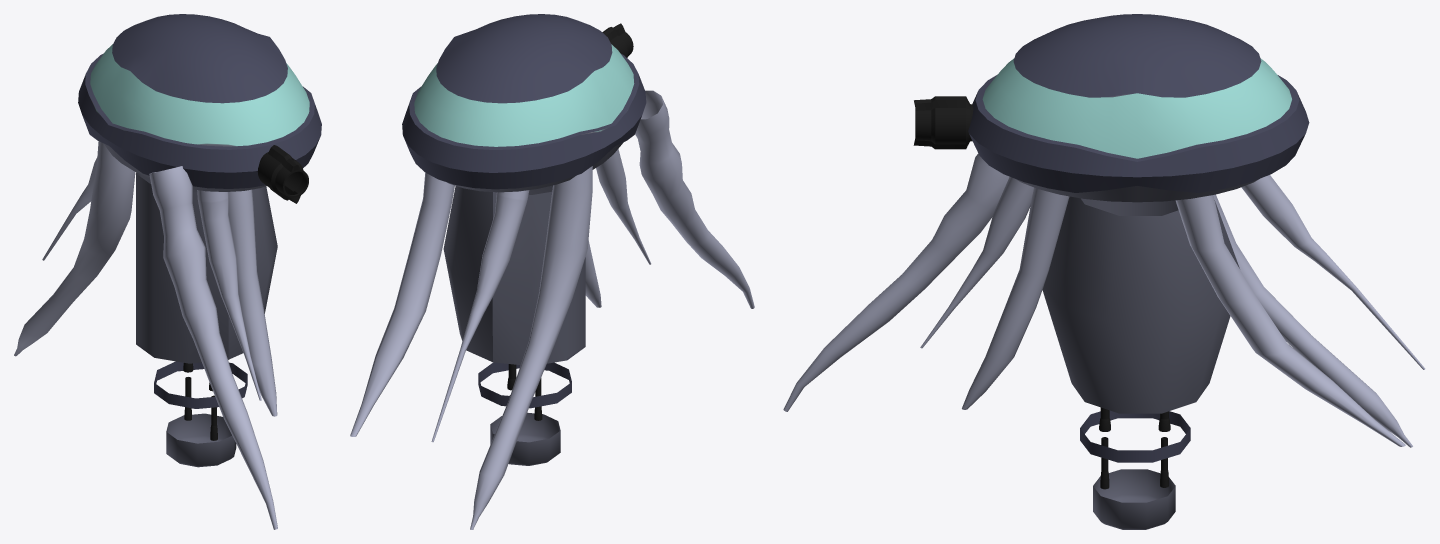
Rendered from normal enemy (blockout).fbx.
The picture shows the model from 3 angles, left to right: view 1: azimuth 30°, elevation 25°; view 2: azimuth 150°, elevation 25°; view 3: azimuth 270°, elevation 25°; orthographic projection. The views are drawn at different scales.
Visible parts, largest first — view 1: capsule, Cylinder, middle, Cylinder.001, Cylinder.003, Cylinder.004, bottom, shoot, under, Cylinder.005; view 2: capsule, middle, Cylinder.001, Cylinder.002, Cylinder, Cylinder.005, bottom, Cylinder.004, under, Cylinder.003, shoot; view 3: capsule, middle, Cylinder.002, Cylinder, Cylinder.003, Cylinder.001, bottom, Cylinder.005, Cylinder.004, shoot, under.
Boxes of the visible parts, left/top/right/bottom form: capsule: left=78, top=14, right=321, bottom=191; Cylinder: left=149, top=166, right=277, bottom=529; middle: left=136, top=172, right=277, bottom=363; Cylinder.001: left=14, top=141, right=135, bottom=356; Cylinder.003: left=228, top=189, right=277, bottom=416; Cylinder.004: left=197, top=190, right=261, bottom=400; bottom: left=166, top=413, right=236, bottom=467; shoot: left=257, top=145, right=308, bottom=203; under: left=154, top=361, right=247, bottom=408; Cylinder.005: left=42, top=157, right=97, bottom=260; capsule: left=402, top=14, right=646, bottom=192; middle: left=443, top=185, right=585, bottom=364; Cylinder.001: left=470, top=166, right=592, bottom=529; Cylinder.002: left=350, top=172, right=454, bottom=436; Cylinder: left=635, top=90, right=754, bottom=308; Cylinder.005: left=431, top=190, right=529, bottom=442; bottom: left=490, top=412, right=560, bottom=465; Cylinder.004: left=596, top=149, right=651, bottom=264; under: left=478, top=362, right=571, bottom=408; Cylinder.003: left=585, top=241, right=601, bottom=307; shoot: left=602, top=23, right=633, bottom=57; capsule: left=968, top=14, right=1309, bottom=202; middle: left=1042, top=196, right=1239, bottom=413; Cylinder.002: left=1175, top=195, right=1405, bottom=446; Cylinder: left=783, top=153, right=1009, bottom=411; Cylinder.003: left=962, top=187, right=1069, bottom=409; Cylinder.001: left=1213, top=194, right=1412, bottom=447; bottom: left=1093, top=469, right=1175, bottom=529; Cylinder.005: left=1241, top=175, right=1425, bottom=369; Cylinder.004: left=920, top=177, right=1033, bottom=348; shoot: left=913, top=96, right=973, bottom=149; under: left=1080, top=410, right=1190, bottom=462.
Bounding box in the file's own units: 281 × 592 × 697.
